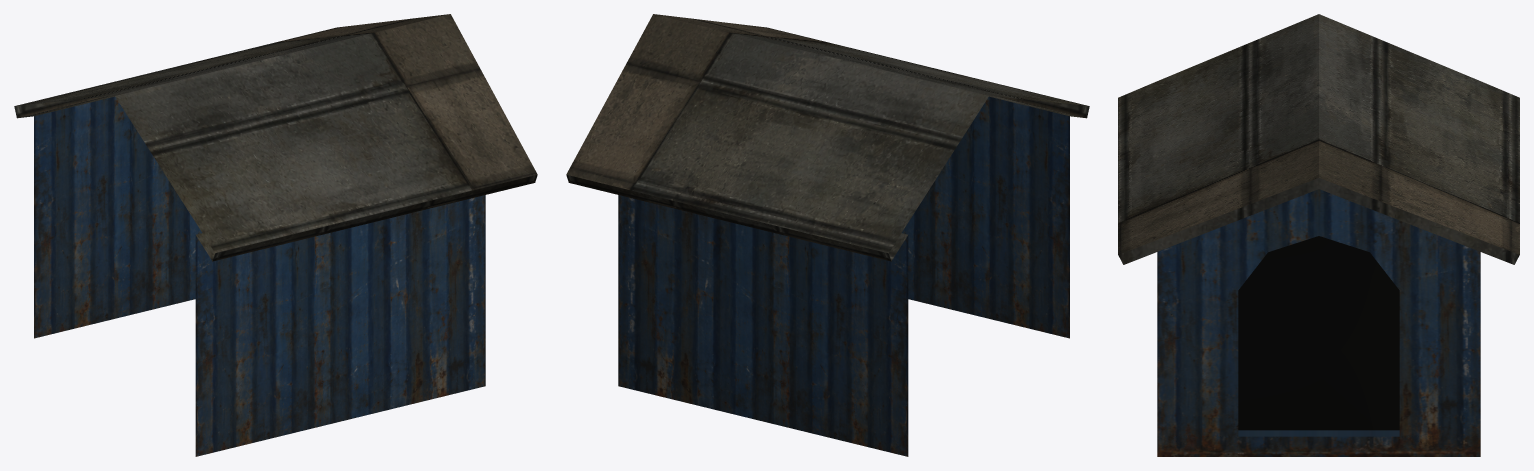
Rendered from HeadrunnerHouse.fbx.
3 views of the same model, side by side, from view 1: azimuth 30°, elevation 25°; view 2: azimuth 150°, elevation 25°; view 3: azimuth 270°, elevation 25° (orthographic).
Parts seen in each view (by area): view 1: Cube; view 2: Cube; view 3: Cube.
Part boxes in pixels (box(x1,y1,x2,y2)): Cube: box(14, 14, 537, 456); Cube: box(566, 14, 1089, 456); Cube: box(1118, 14, 1519, 456).
Bounding box in the file's own units: 2.4 × 2.06 × 2.49.
